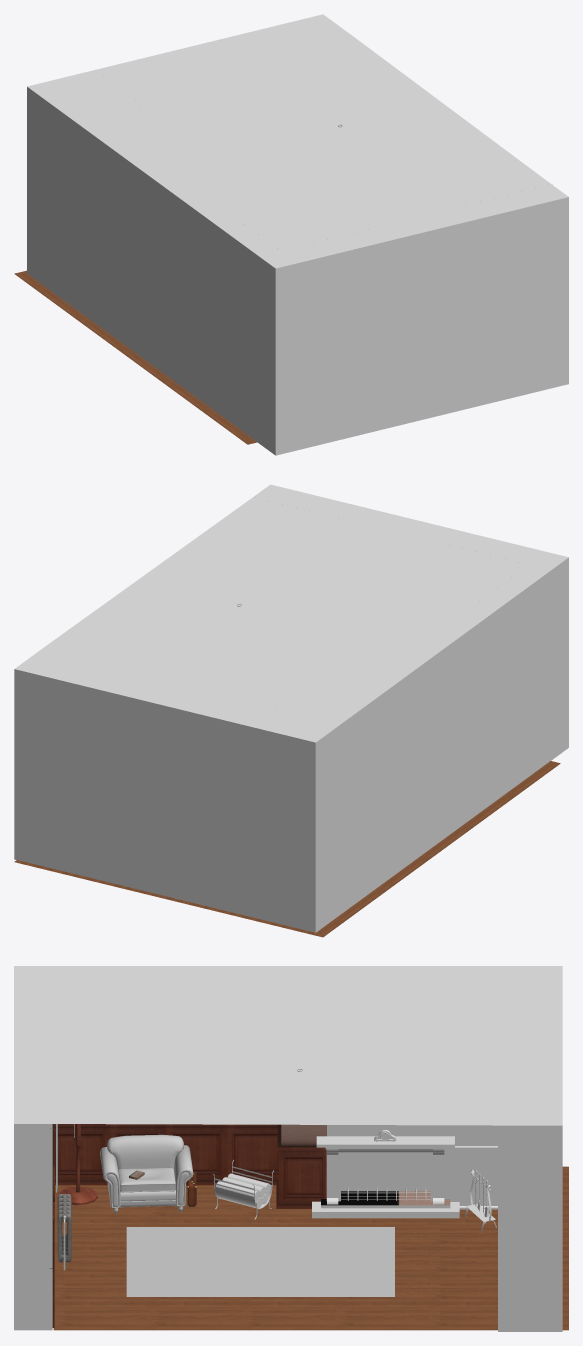
The model's file is OFFICE — kopia.blend.fbx.
The picture shows the model from 3 angles, top to bottom: view 1: azimuth 30°, elevation 25°; view 2: azimuth 150°, elevation 25°; view 3: azimuth 270°, elevation 25°; orthographic projection. The views are drawn at different scales.
Parts seen in each view (by area): view 1: Plane.037, Plane; view 2: Plane.037, Plane; view 3: Plane.037, Plane, Plane.036, Plane.032, Circle.004, Plane.010, Plane.001, Plane.012, Plane.020, Plane.015, Plane.002, Circle.290 (+3 smaller).
Part boxes in pixels (box(x1,y1,x2,y2)): Plane.037: box(27, 14, 568, 455); Plane: box(14, 270, 257, 444); Plane.037: box(14, 484, 568, 932); Plane: box(14, 761, 560, 937); Plane.037: box(14, 966, 562, 1331); Plane: box(53, 1166, 568, 1330); Plane.036: box(126, 1227, 394, 1296); Plane.032: box(312, 1136, 459, 1218); Circle.004: box(100, 1134, 193, 1213); Plane.010: box(164, 1124, 278, 1185); Plane.001: box(444, 1125, 497, 1209); Plane.012: box(276, 1124, 326, 1208); Plane.020: box(54, 1124, 164, 1185); Plane.015: box(327, 1125, 443, 1136); Plane.002: box(213, 1160, 273, 1219); Circle.290: box(57, 1193, 71, 1262).
Bounding box in the file's own units: 1076 × 633 × 1531.
